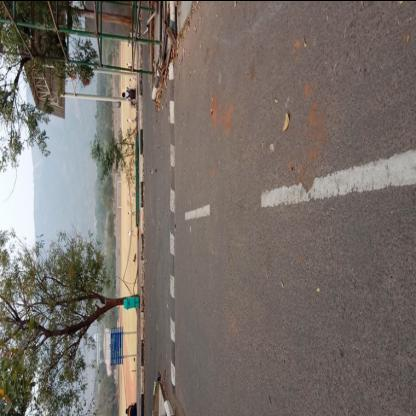speed-bumps: (162, 44, 180, 404)
